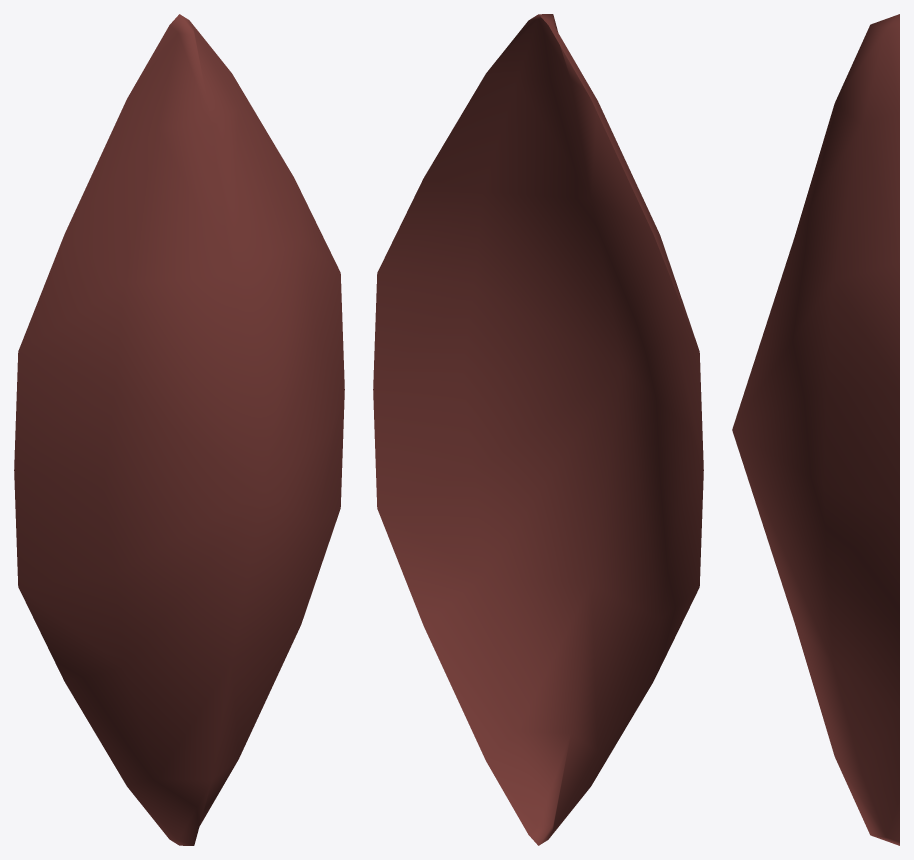
Rendered from spina_i.dae.
The picture shows the model from 3 angles, left to right: view 1: azimuth 30°, elevation 25°; view 2: azimuth 150°, elevation 25°; view 3: azimuth 270°, elevation 25°; orthographic projection.
Parts seen in each view (by area): view 1: Celtic_shield_Spina_I; view 2: Celtic_shield_Spina_I; view 3: Celtic_shield_Spina_I.
Part boxes in pixels (x1=…): Celtic_shield_Spina_I: x1=14, y1=14, x2=344, y2=845; Celtic_shield_Spina_I: x1=373, y1=14, x2=703, y2=845; Celtic_shield_Spina_I: x1=732, y1=14, x2=899, y2=845.
Bounding box in the file's own units: 0.3313 × 0.1455 × 0.7961.
